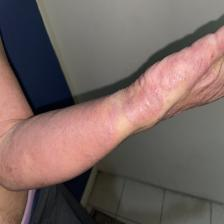Dermatitis kontak alergi: (122, 83, 166, 126)
